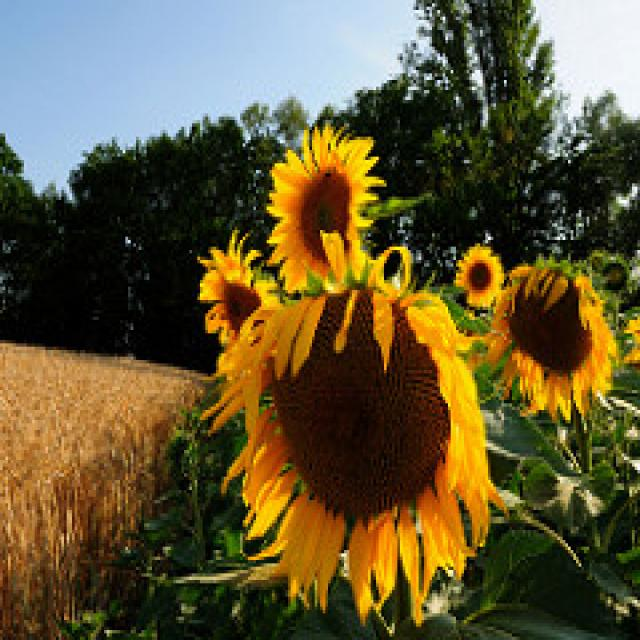sunflower: (213, 275, 504, 615), (479, 253, 620, 427), (260, 120, 375, 293), (182, 233, 286, 357), (456, 242, 507, 318)
